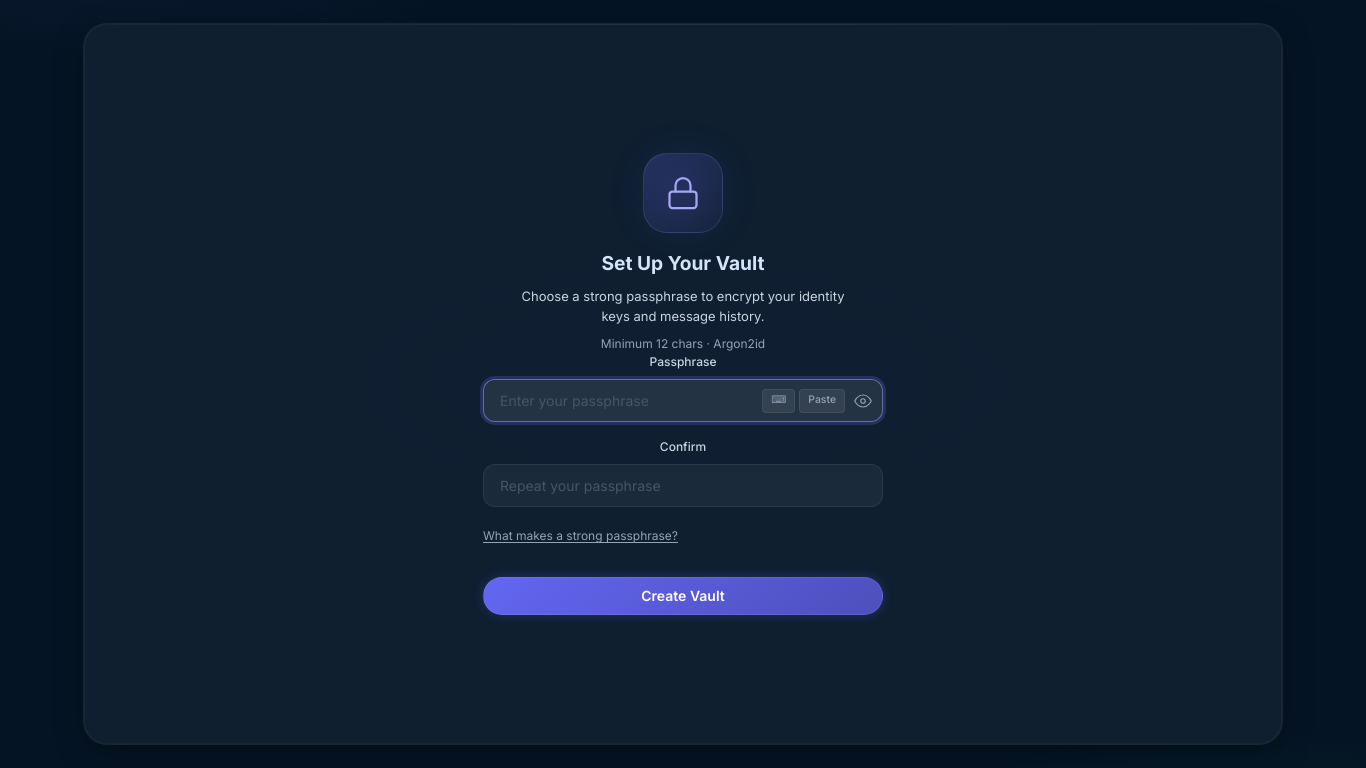
Test: VaultView › shows passphrase tips when toggled
This screenshot has width=1366, height=768.
Step 1. Click the button "What makes a strong passphrase?" → (580, 536), box [483,523,678,549]
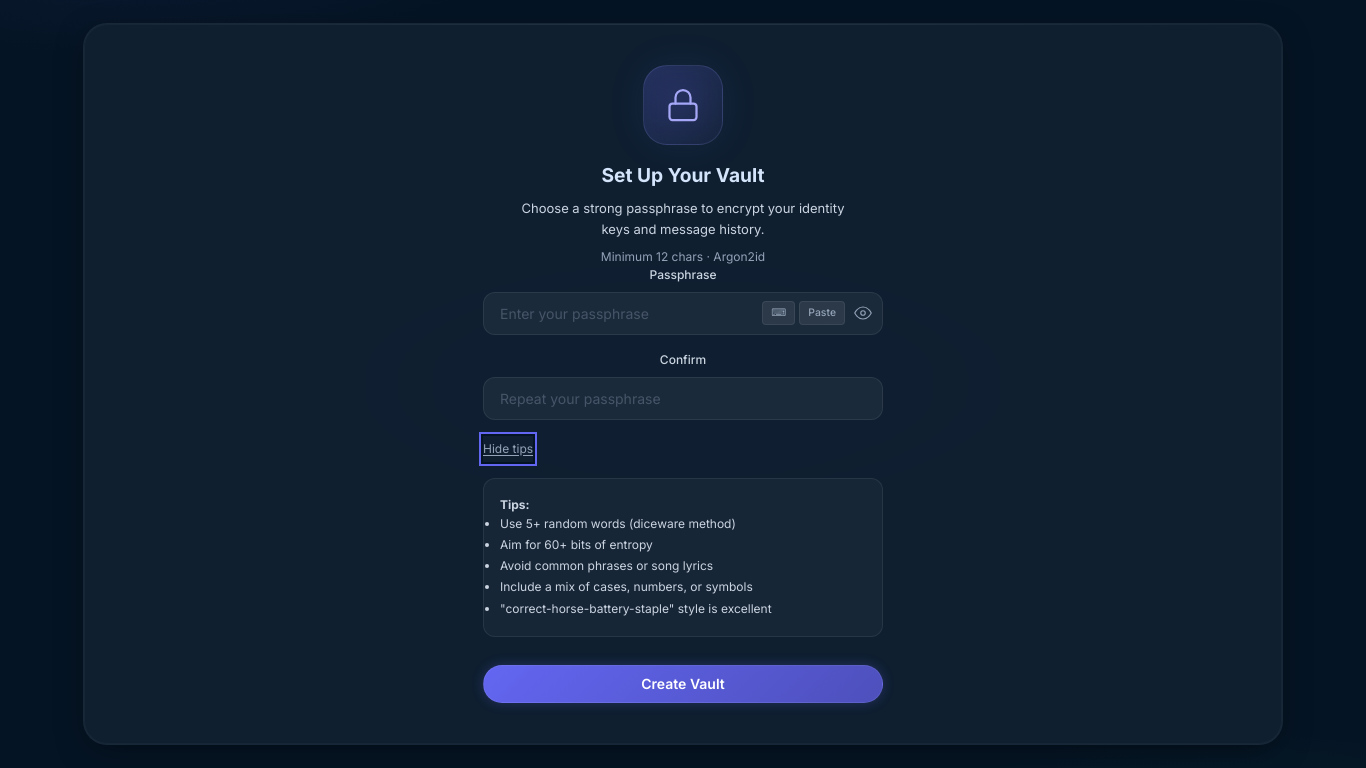
Expected: the list item "Use 5+ random words (diceware method)" is shown, [500,516,736,531]
